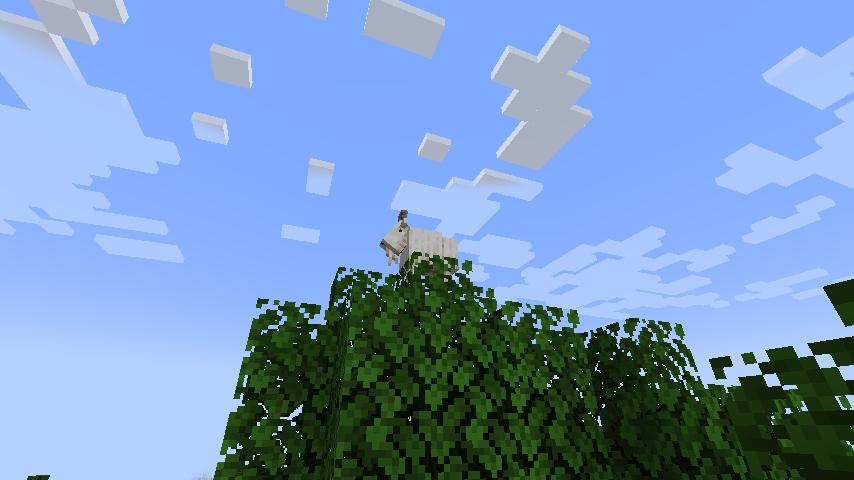goat: (380, 208, 462, 289)
